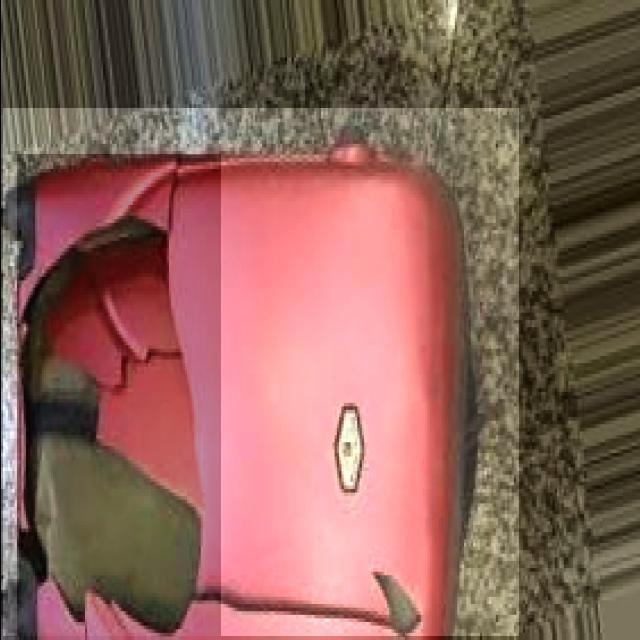Damage-bag: (19, 161, 420, 633)
